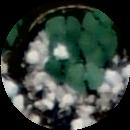Basil: (92, 31, 118, 66), (46, 15, 78, 42), (66, 66, 100, 91), (42, 59, 74, 80), (84, 8, 108, 32)
